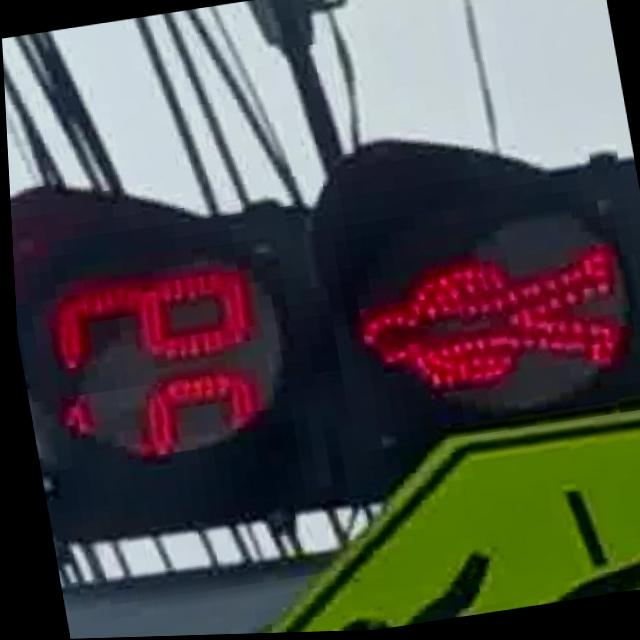red_light: (331, 228, 630, 409)
